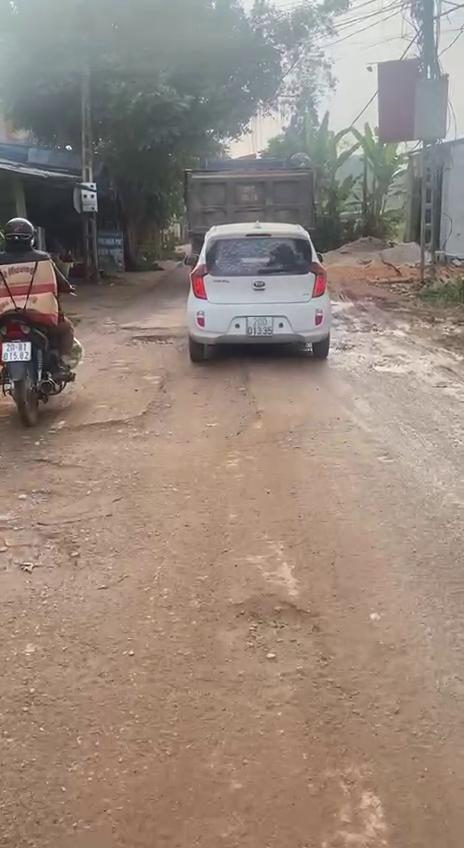pothole: (62, 392, 258, 446), (220, 594, 333, 674), (123, 332, 190, 351)
